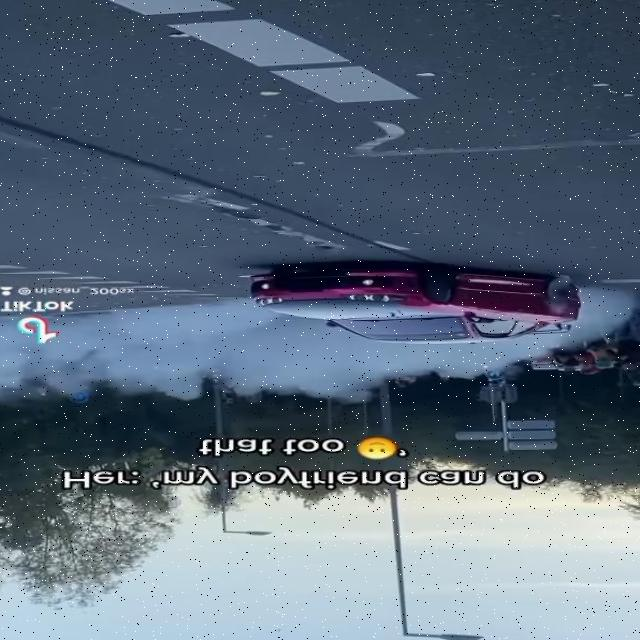car: (243, 258, 585, 345)
